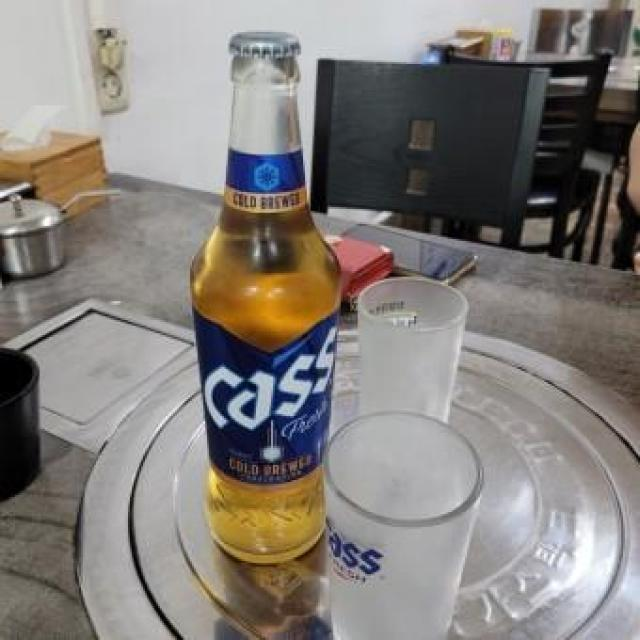beer-bottle: (186, 24, 350, 574)
